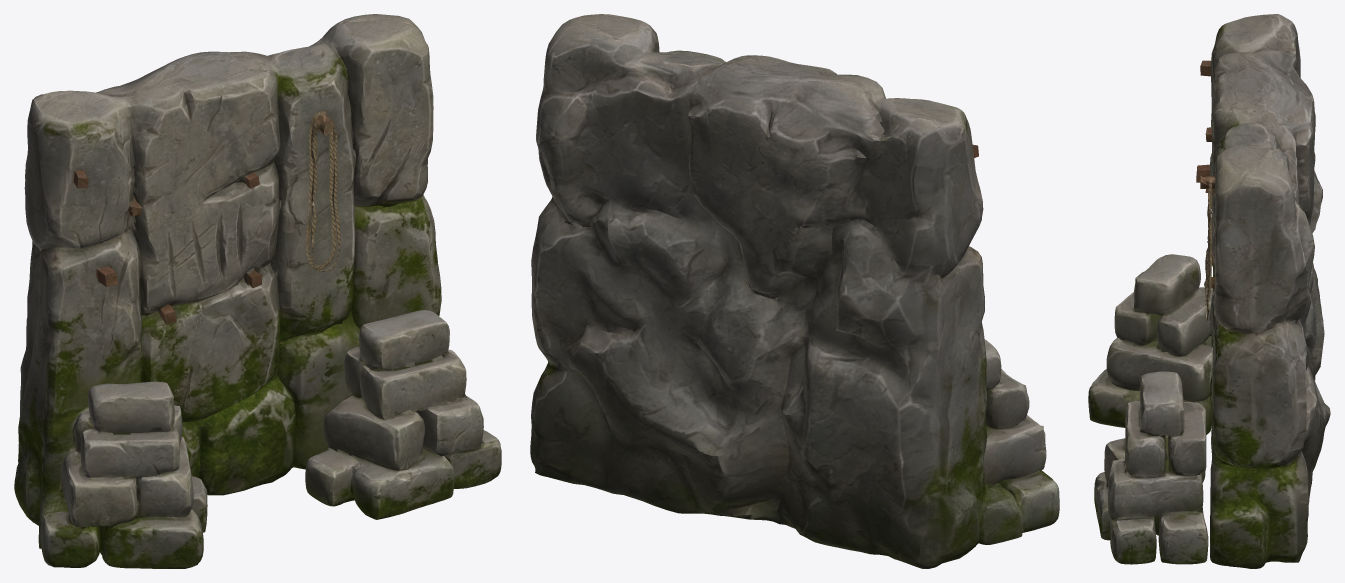
Rendered from meadows_quarry_blocks.glb.
3 renders of one model, left to right at view 1: azimuth 30°, elevation 25°; view 2: azimuth 150°, elevation 25°; view 3: azimuth 270°, elevation 25°, orthographic. The views are drawn at different scales.
Visible parts, largest first — view 1: Mesh_0; view 2: Mesh_0; view 3: Mesh_0.
Part boxes in pixels (<box>): Mesh_0: <box>14,14,501,568</box>; Mesh_0: <box>530,14,1059,568</box>; Mesh_0: <box>1088,14,1330,568</box>.
Size of the model in its own units: 1.9 by 1.73 by 0.9756.
1 material, 1 textured.
